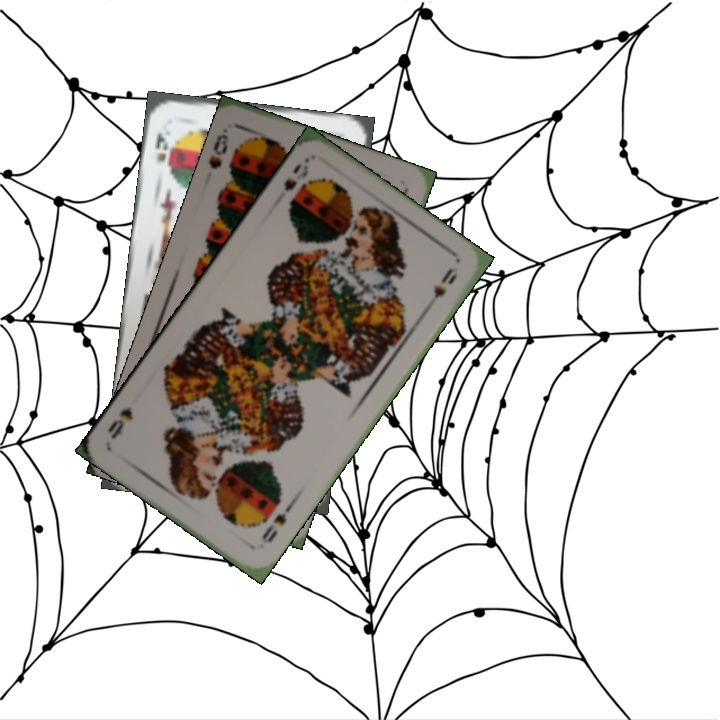S8: (205, 124, 231, 172)
SK: (151, 129, 171, 165)
SO: (257, 500, 296, 546), (280, 155, 312, 195)
